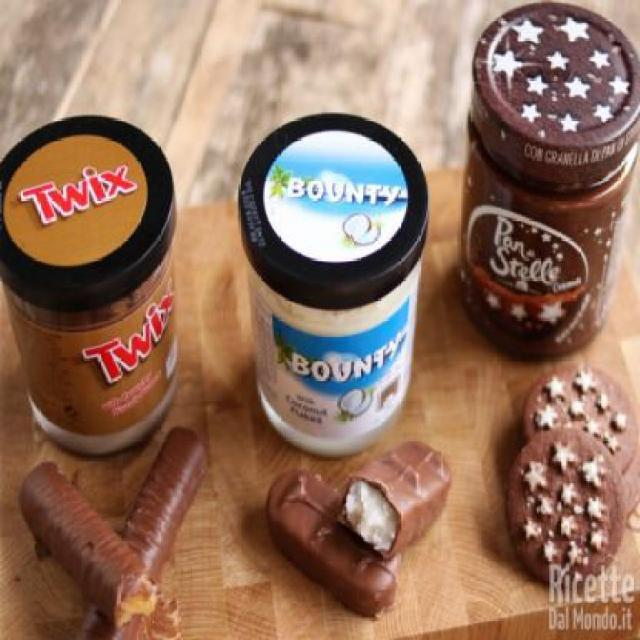Chocolate bar packaged: (18, 462, 158, 630), (105, 428, 208, 638), (266, 466, 398, 620), (342, 436, 456, 560)
Cookie: (506, 428, 626, 592), (518, 362, 640, 489)
